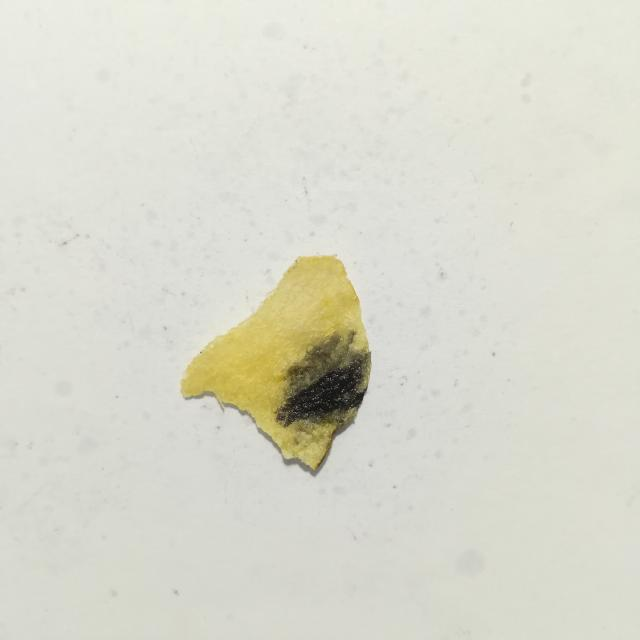chip: (181, 256, 371, 469)
damaged: (281, 358, 365, 425)
semi-damaged: (274, 328, 371, 464)
